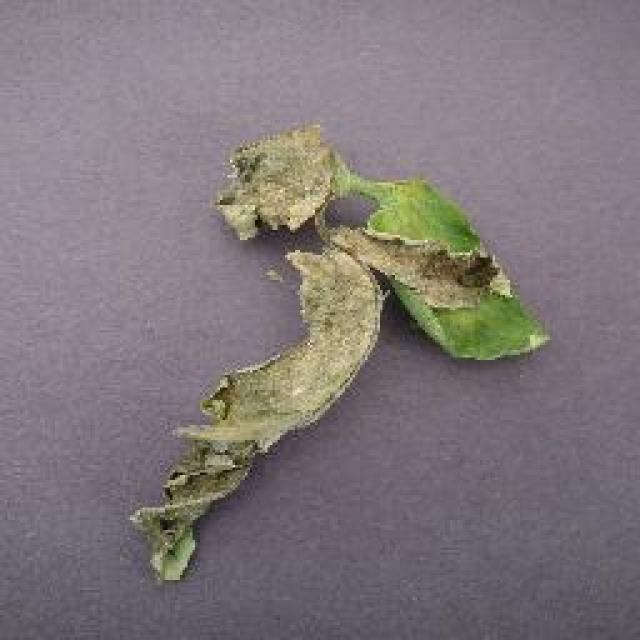Tomato Late Blight: (102, 100, 393, 533)
